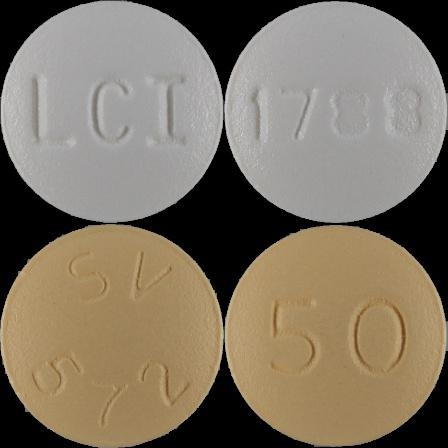61786-768: (0, 0, 224, 224)
